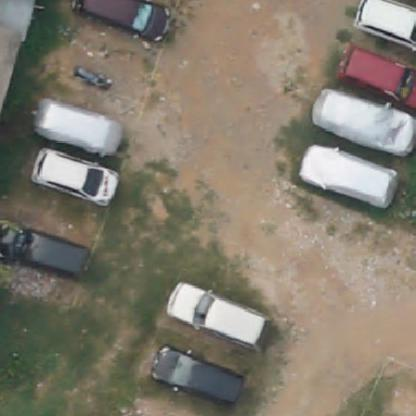Car: (168, 280, 276, 346), (311, 146, 399, 209), (326, 92, 414, 153), (148, 354, 248, 406), (0, 221, 88, 279), (72, 0, 174, 46), (32, 152, 120, 204), (36, 100, 119, 154), (342, 46, 416, 104), (354, 2, 416, 48)
Motorcycle: (74, 62, 116, 93)
